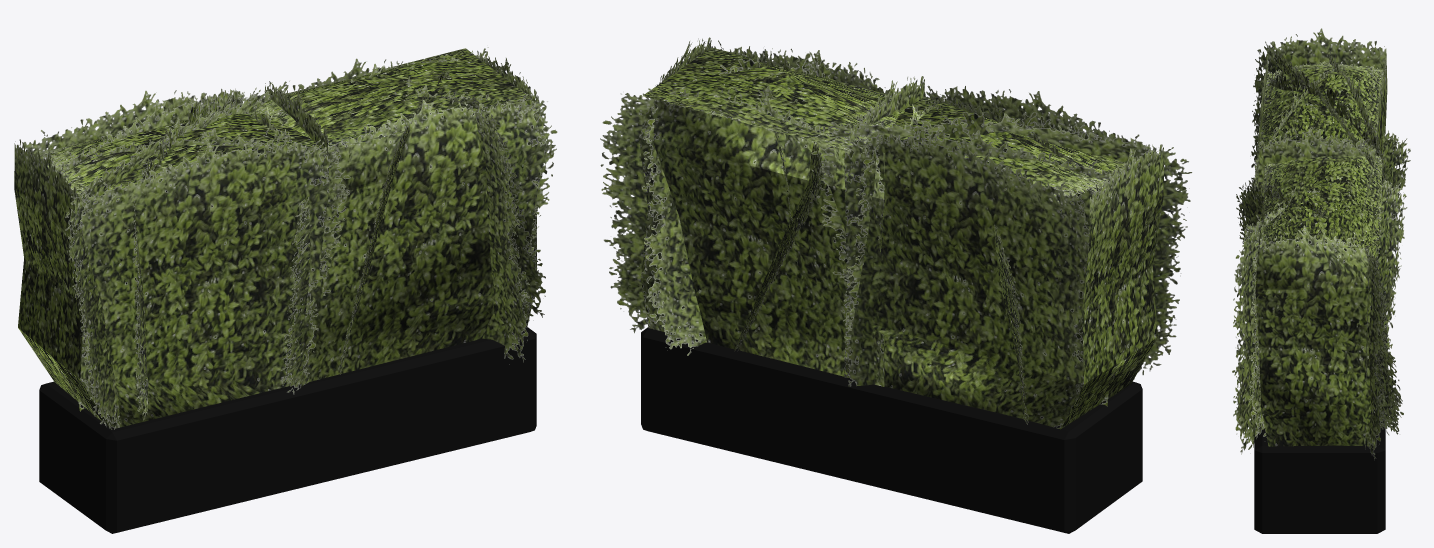
The model's file is Plant_Horizontal.fbx.
The picture shows the model from 3 angles, left to right: view 1: azimuth 30°, elevation 25°; view 2: azimuth 150°, elevation 25°; view 3: azimuth 270°, elevation 25°; orthographic projection. The views are drawn at different scales.
Parts seen in each view (by area): view 1: Plant_Horizontal.003; view 2: Plant_Horizontal.003; view 3: Plant_Horizontal.003.
Boxes of the visible parts, bbox=[...] form: Plant_Horizontal.003: bbox=[14, 47, 557, 533]; Plant_Horizontal.003: bbox=[600, 37, 1192, 533]; Plant_Horizontal.003: bbox=[1232, 28, 1410, 533].
Size of the model in its own units: 82.21 by 56.76 by 30.8.
Materials: 2 (1 with a texture image).
